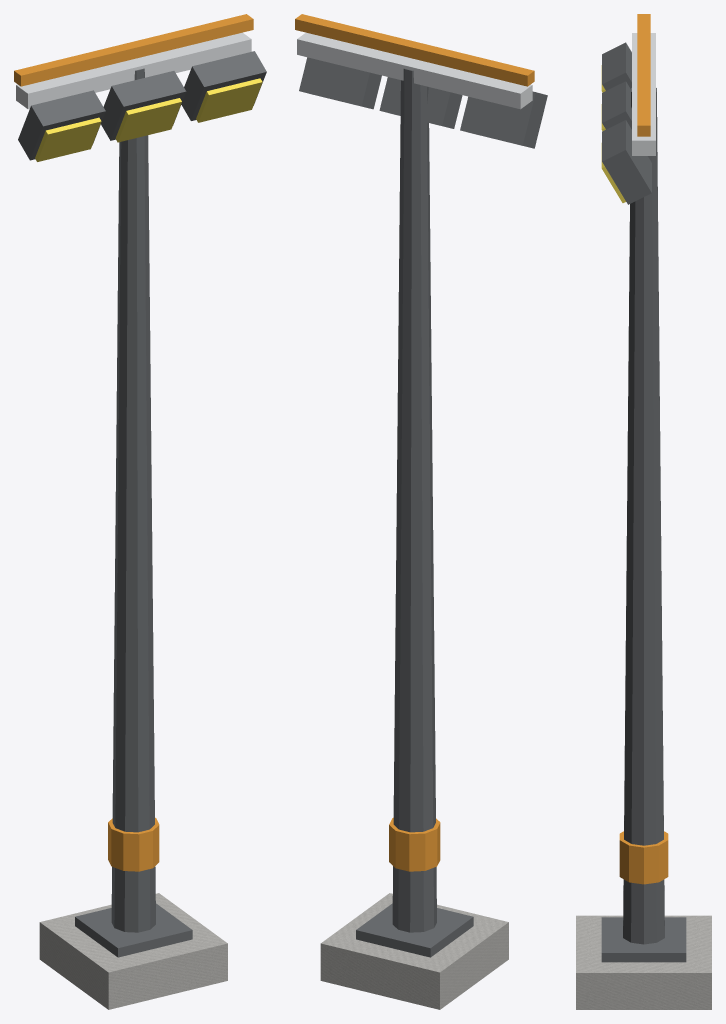
File: recycling-and-waste-transfer-yard-recycling-and-waste--83ad9dca__34927.glb
The picture shows the model from 3 angles, left to right: view 1: azimuth 30°, elevation 25°; view 2: azimuth 150°, elevation 25°; view 3: azimuth 270°, elevation 25°; orthographic projection.
Visible parts, largest first — view 1: recycling-and-waste-transfer-yard-floodlight-mast; view 2: recycling-and-waste-transfer-yard-floodlight-mast; view 3: recycling-and-waste-transfer-yard-floodlight-mast.
Boxes of the visible parts, <box> form: recycling-and-waste-transfer-yard-floodlight-mast: <box>14,14,266,1009</box>; recycling-and-waste-transfer-yard-floodlight-mast: <box>295,14,547,1009</box>; recycling-and-waste-transfer-yard-floodlight-mast: <box>576,14,711,1009</box>.
Size of the model in its own units: 1.56 by 5.93 by 0.8.
Materials: 5 (1 with a texture image).
